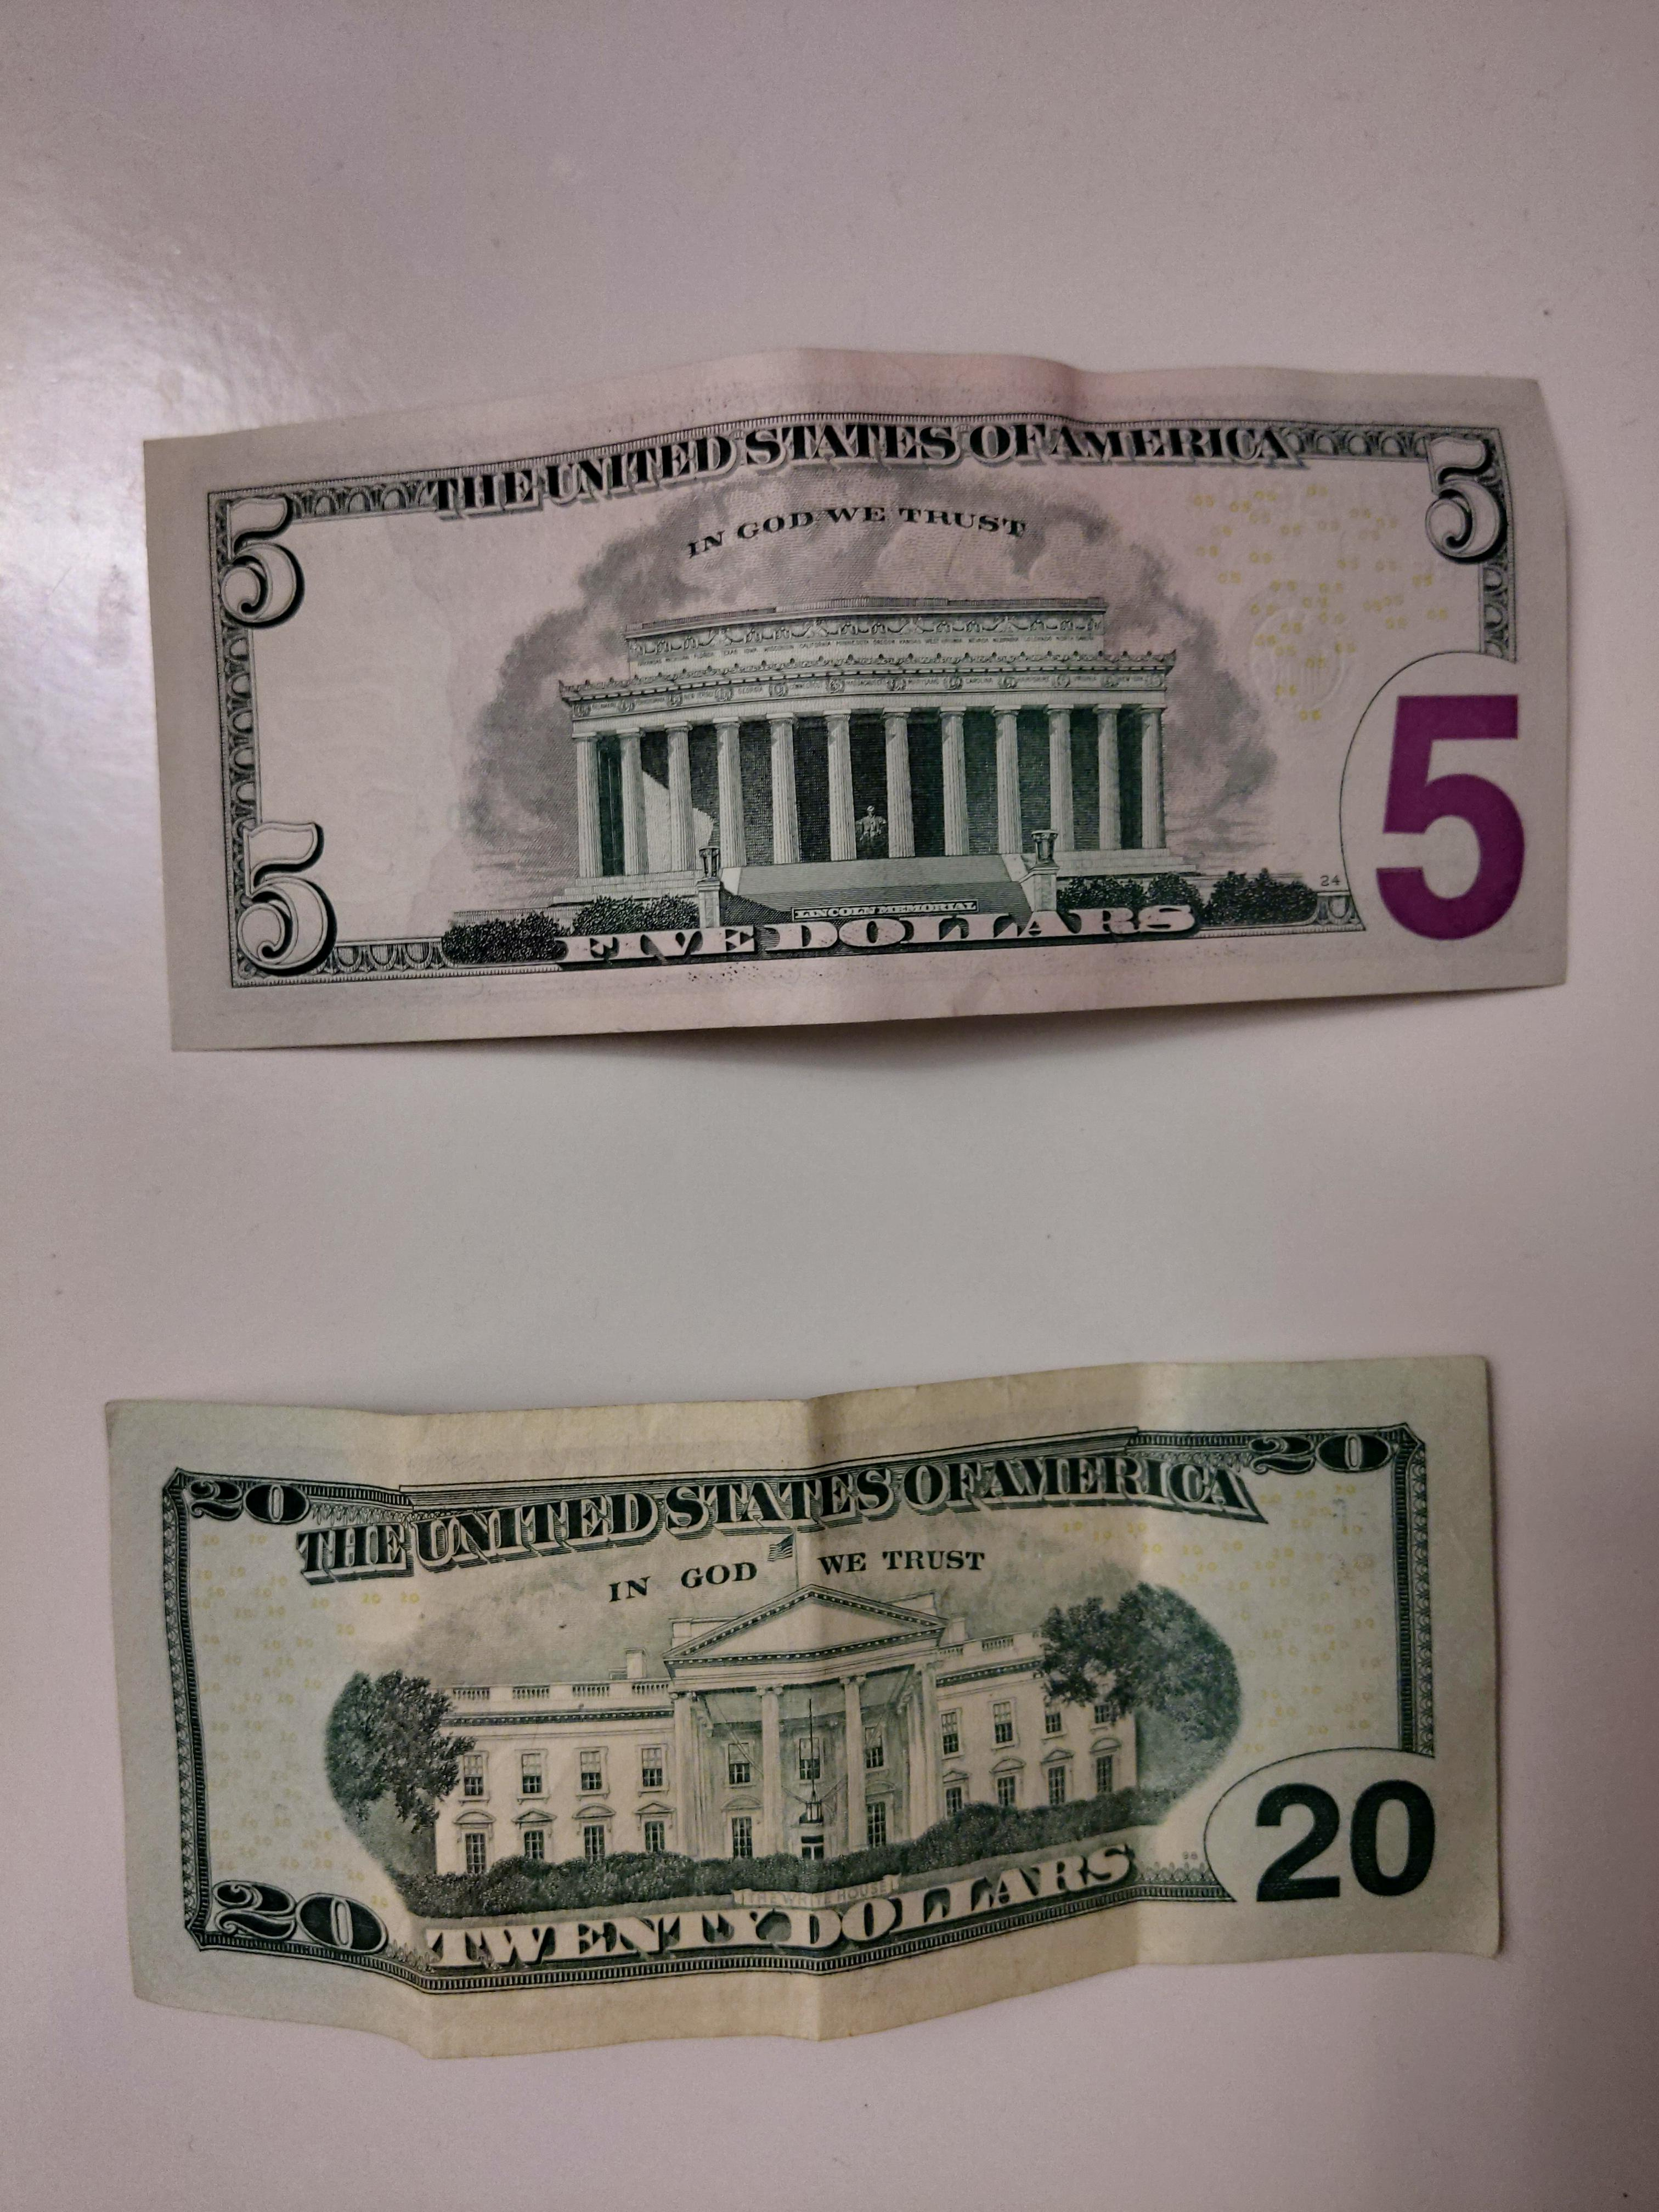FiveBill: (138, 341, 1579, 1055)
TwentyBill: (99, 1353, 1507, 2066)
